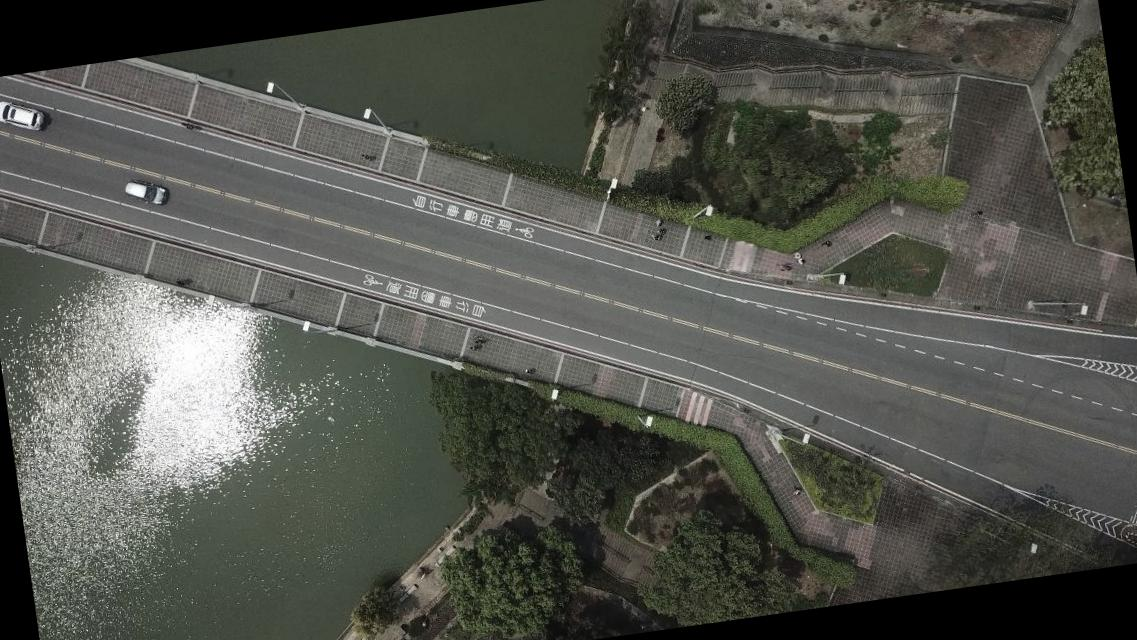vehicle: (0, 95, 47, 138), (122, 174, 170, 210)
